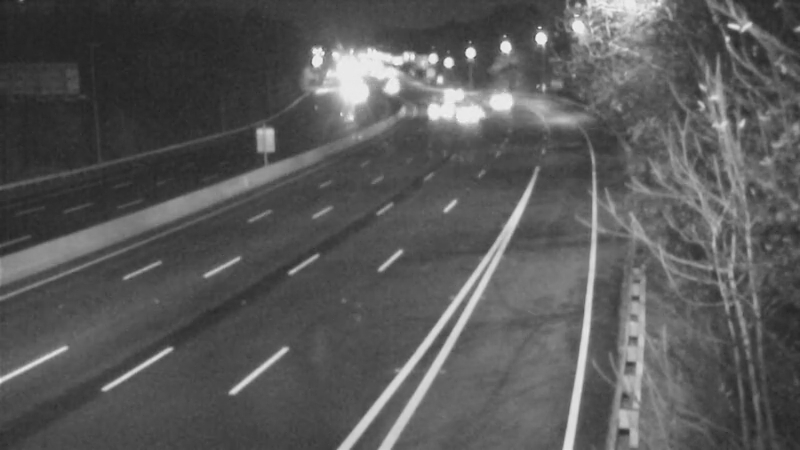vehicle: (437, 90, 487, 140), (407, 82, 457, 132), (476, 70, 526, 120), (432, 67, 482, 117)
